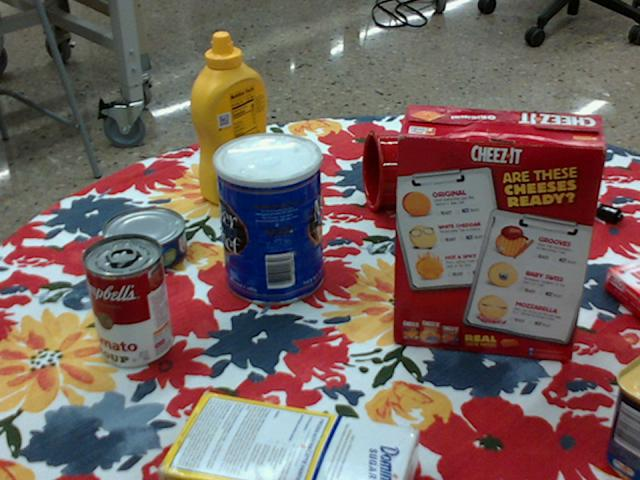cracker_box: (392, 106, 609, 364)
gelatin_box: (603, 260, 639, 319)
large_marker: (524, 177, 622, 223)
master_chef_can: (214, 131, 322, 305)
mug: (361, 132, 448, 214)
mustard_bottle: (192, 33, 274, 206)
potted_meat_can: (609, 357, 639, 479)
sugar_box: (156, 393, 421, 479)
tomato_soup_can: (83, 232, 172, 367)
tuna_fish_can: (103, 206, 187, 272)
